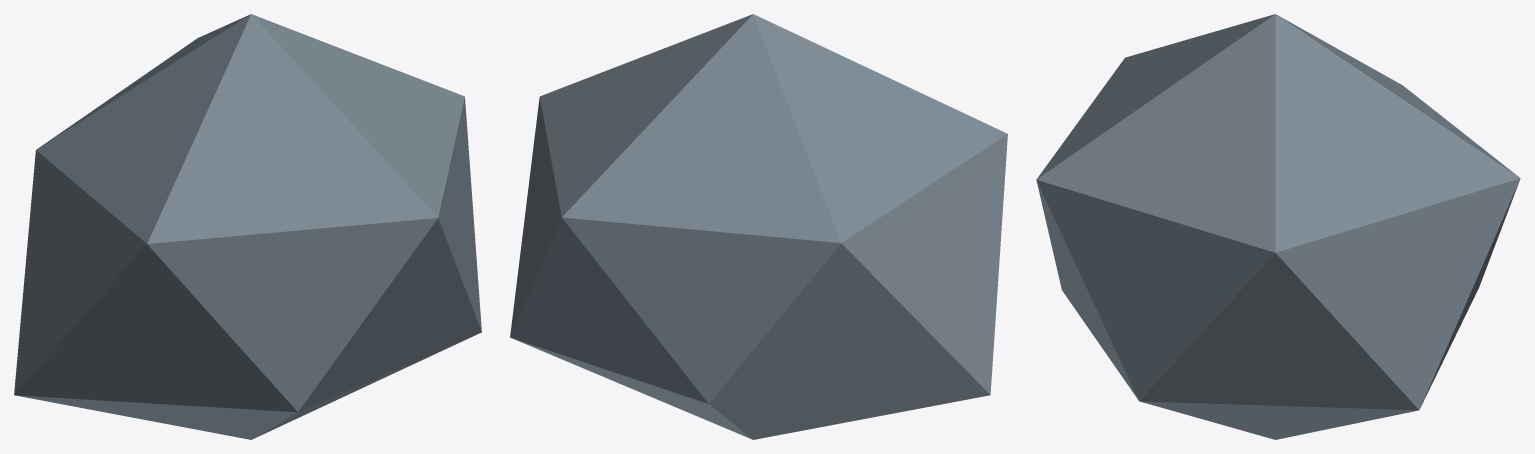
Rendered from RockChip.fbx.
3 views of the same model, side by side, from view 1: azimuth 30°, elevation 25°; view 2: azimuth 150°, elevation 25°; view 3: azimuth 270°, elevation 25° (orthographic).
Visible parts, largest first — view 1: Chip; view 2: Chip; view 3: Chip.
Boxes of the visible parts, bbox=[...] form: Chip: bbox=[14, 14, 481, 439]; Chip: bbox=[510, 14, 1007, 439]; Chip: bbox=[1036, 14, 1520, 439].
Size of the model in its own units: 16.82 by 15.19 by 15.65.
